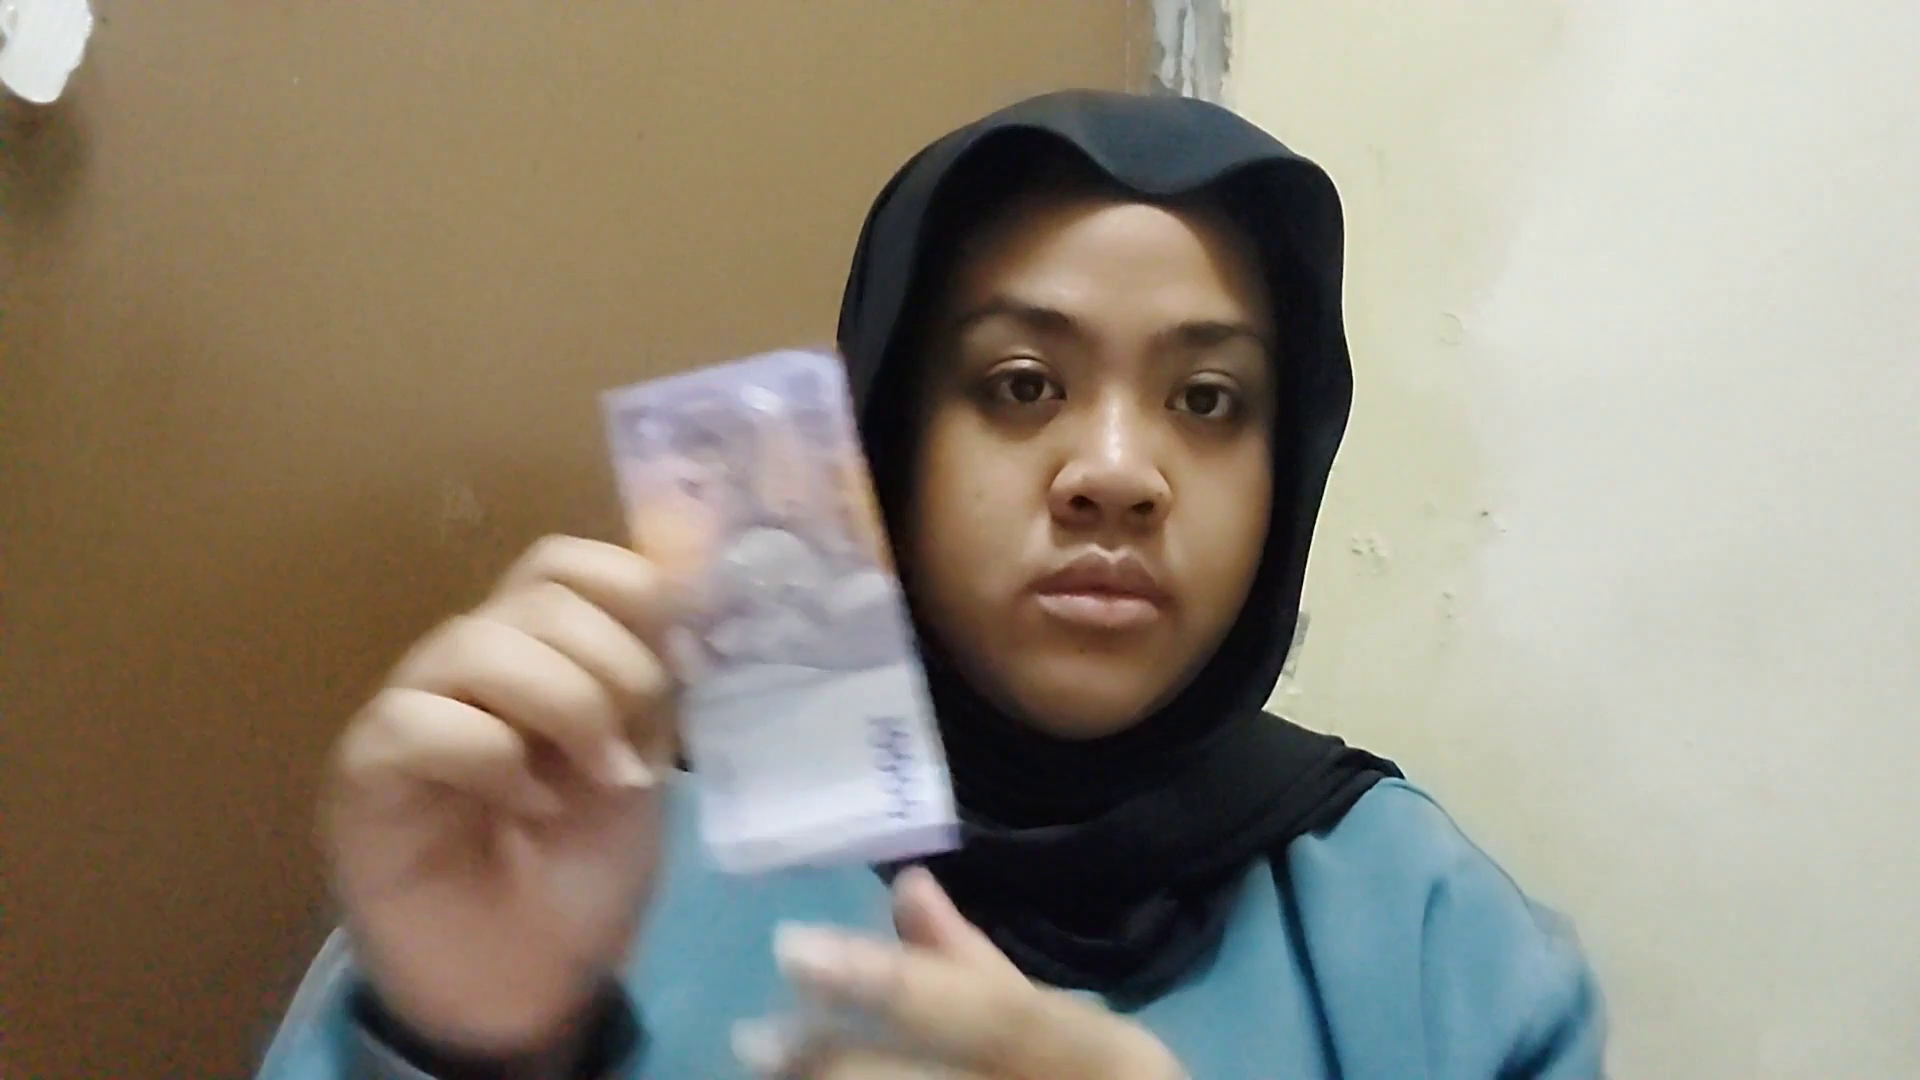10k: (583, 382, 851, 920)
